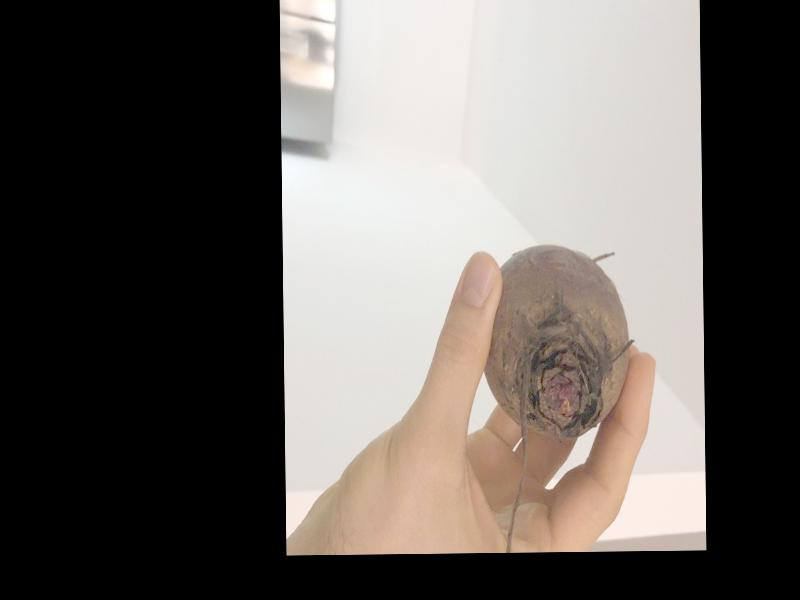Beet: (480, 242, 637, 551)
